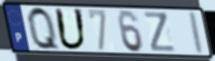6: (116, 8, 145, 54)
7: (87, 8, 109, 53)
I: (189, 9, 206, 56)
Q: (26, 5, 63, 53)
U: (53, 7, 89, 52)
Z: (142, 11, 178, 54)
